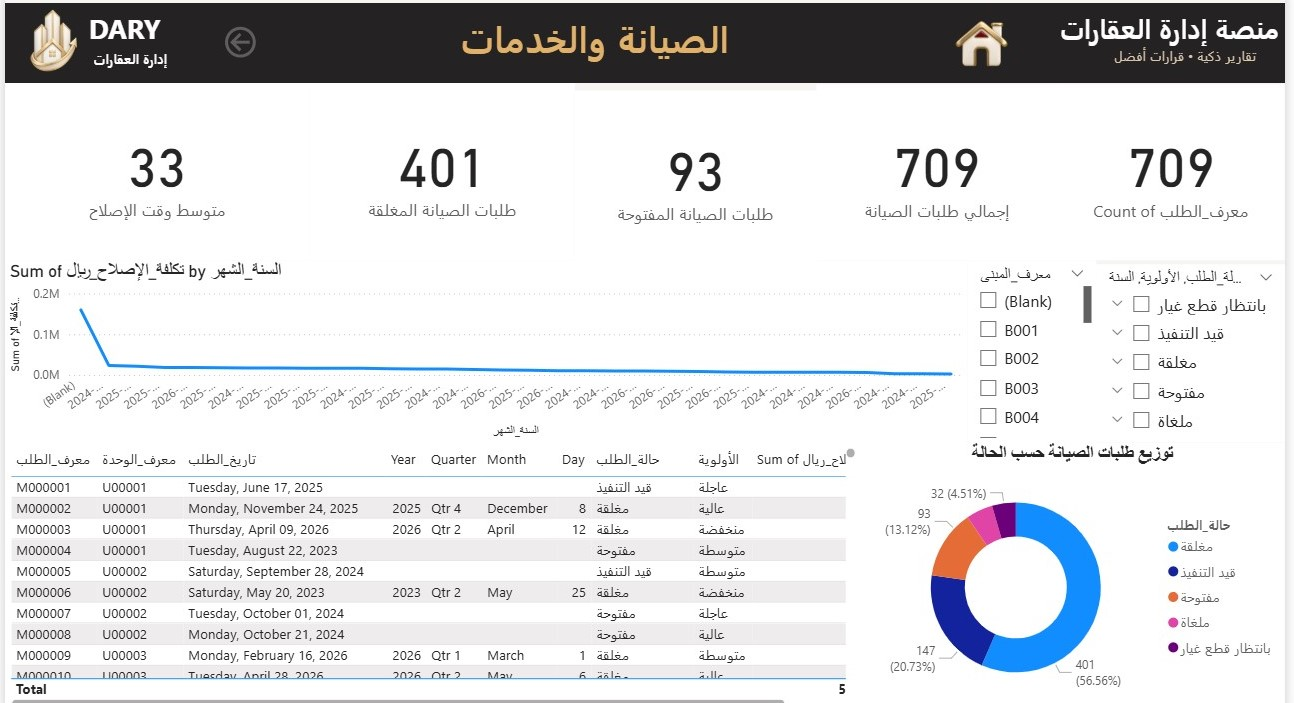

The page's visual inventory and layout, read from the dashboard file:
{"tool":"powerbi","page":{"name":"الصيانة والخدمات","canvas":[1280,720],"ordinal":8},"visuals":[{"type":"shape","box":[0,10,2000,80.2],"z":0},{"type":"textbox","box":[1007.9,12.4,272.1,71.4],"z":1000},{"type":"textbox","box":[1072.3,49.4,183.8,49.4],"z":2000},{"type":"textbox","box":[78.3,11.9,187.2,52.8],"z":3000},{"type":"textbox","box":[76.6,37.4,188.9,52.8],"z":4000},{"type":"image","box":[0,10.2,95.3,76.6],"z":5000},{"type":"actionButton","box":[214.5,28.9,100.4,40.9],"z":6000},{"type":"textbox","box":[432.3,15.3,314.9,71.5],"z":7000},{"type":"card","fields":{"Values":["Fact_Maintenance.طلبات الصيانة المغلقة"]},"box":[305,90,265,177.5],"z":8000},{"type":"card","fields":{"Values":["Fact_Maintenance.متوسط وقت الإصلاح"]},"box":[0,90,305,177.5],"z":9000},{"type":"card","fields":{"Values":["Fact_Maintenance.طلبات الصيانة المفتوحة"]},"box":[570,97.5,241.2,170],"z":10000},{"type":"card","fields":{"Values":["Count(Fact_Maintenance.معرف_الطلب)"]},"box":[1052.5,91.2,227.5,176.2],"z":11000},{"type":"card","fields":{"Values":["Fact_Maintenance.إجمالي طلبات الصيانة"]},"box":[811.2,91.2,241.2,176.2],"z":12000},{"type":"slicer","fields":{"Values":["Fact_Maintenance.حالة_الطلب","Fact_Maintenance.الأولوية","Dim_Date.السنة"]},"box":[1091.2,271.2,188.8,178.8],"z":13000},{"type":"slicer","fields":{"Values":["Dim_Building.معرف_المبنى"]},"box":[962.5,267.5,128.8,182.5],"z":14000},{"type":"donutChart","title":"توزيع طلبات الصيانة حسب الحالة","fields":{"Category":["Fact_Maintenance.حالة_الطلب"],"Y":["Fact_Maintenance.إجمالي طلبات الصيانة"]},"box":[855,450,425,270],"z":15000},{"type":"lineChart","fields":{"Category":["Dim_Date.السنة_الشهر"],"Y":["Sum(Fact_Maintenance.تكلفة_الإصلاح_ريال)"]},"box":[0,267.5,962.5,182.5],"z":16000},{"type":"tableEx","fields":{"Values":["Fact_Maintenance.معرف_الطلب","Fact_Maintenance.معرف_الوحدة","Fact_Maintenance.تاريخ_الطلب","Fact_Maintenance.تاريخ_الإغلاق.Variation.Date Hierarchy.Year","Fact_Maintenance.تاريخ_الإغلاق.Variation.Date Hierarchy.Quarter","Fact_Maintenance.تاريخ_الإغلاق.Variation.Date Hierarchy.Month","Fact_Maintenance.تاريخ_الإغلاق.Variation.Date Hierarchy.Day","Fact_Maintenance.حالة_الطلب","Fact_Maintenance.الأولوية","Sum(Fact_Maintenance.تكلفة_الإصلاح_ريال)"]},"box":[0,450,855,270],"z":17000},{"type":"image","box":[926.2,7.5,101.2,86.2],"z":18000}]}

Visuals, with their boxes on the page's 1280x720 design canvas (x1, y1, x2, y2). These are canvas units, not pixel positions in the 1294x703 screenshot, which may show the page scaled, cropped or inside an application window:
shape: [0,10,2000,90]
textbox: [1008,12,1280,84]
textbox: [1072,49,1256,99]
textbox: [78,12,266,65]
textbox: [77,37,266,90]
image: [0,10,95,87]
actionButton: [214,29,315,70]
textbox: [432,15,747,87]
card - Fact_Maintenance.طلبات الصيانة المغلقة: [305,90,570,268]
card - Fact_Maintenance.متوسط وقت الإصلاح: [0,90,305,268]
card - Fact_Maintenance.طلبات الصيانة المفتوحة: [570,98,811,268]
card - Count(Fact_Maintenance.معرف_الطلب): [1052,91,1280,267]
card - Fact_Maintenance.إجمالي طلبات الصيانة: [811,91,1052,267]
slicer - Fact_Maintenance.حالة_الطلب x Fact_Maintenance.الأولوية: [1091,271,1280,450]
slicer - Dim_Building.معرف_المبنى: [962,268,1091,450]
"توزيع طلبات الصيانة حسب الحالة" donutChart: [855,450,1280,720]
lineChart - Dim_Date.السنة_الشهر x Sum(Fact_Maintenance.تكلفة_الإصلاح_ريال): [0,268,962,450]
tableEx - Fact_Maintenance.معرف_الطلب x Fact_Maintenance.معرف_الوحدة: [0,450,855,720]
image: [926,8,1027,94]
